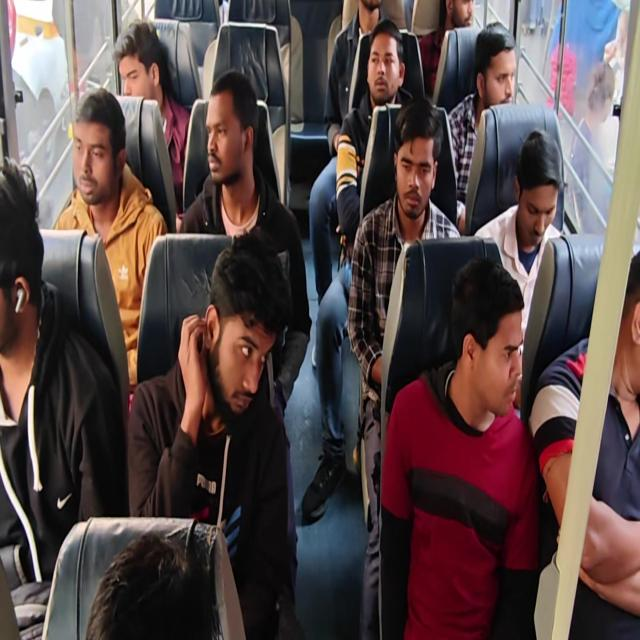person: (206, 253, 272, 430), (457, 265, 523, 407), (0, 164, 42, 346), (517, 130, 564, 249), (69, 99, 117, 206), (606, 260, 640, 386), (472, 32, 518, 124), (205, 90, 247, 185), (110, 31, 163, 106), (395, 126, 437, 206), (368, 42, 406, 102), (445, 0, 483, 37), (354, 0, 393, 32)
